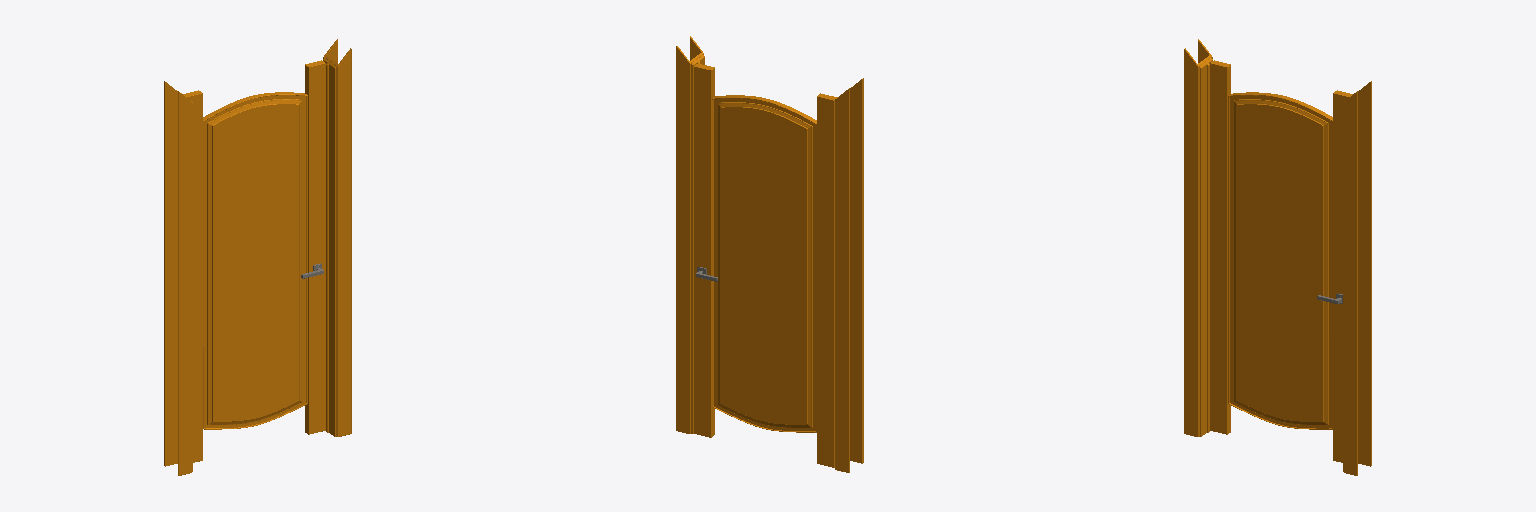
The picture shows the model from 3 angles: view 1: azimuth 30°, elevation 25°; view 2: azimuth 150°, elevation 25°; view 3: azimuth 330°, elevation 25°; orthographic projection.
Visible parts, largest first — view 1: polySurface43; view 2: polySurface43; view 3: polySurface43.
Boxes of the visible parts, box(x1,y1,x2,y2) form: polySurface43: box(164, 39, 351, 475); polySurface43: box(676, 36, 863, 472); polySurface43: box(1184, 39, 1371, 475).
Bounding box in the file's own units: 3.18 × 6.76 × 0.5756.
Materials: 2 (2 with a texture image).